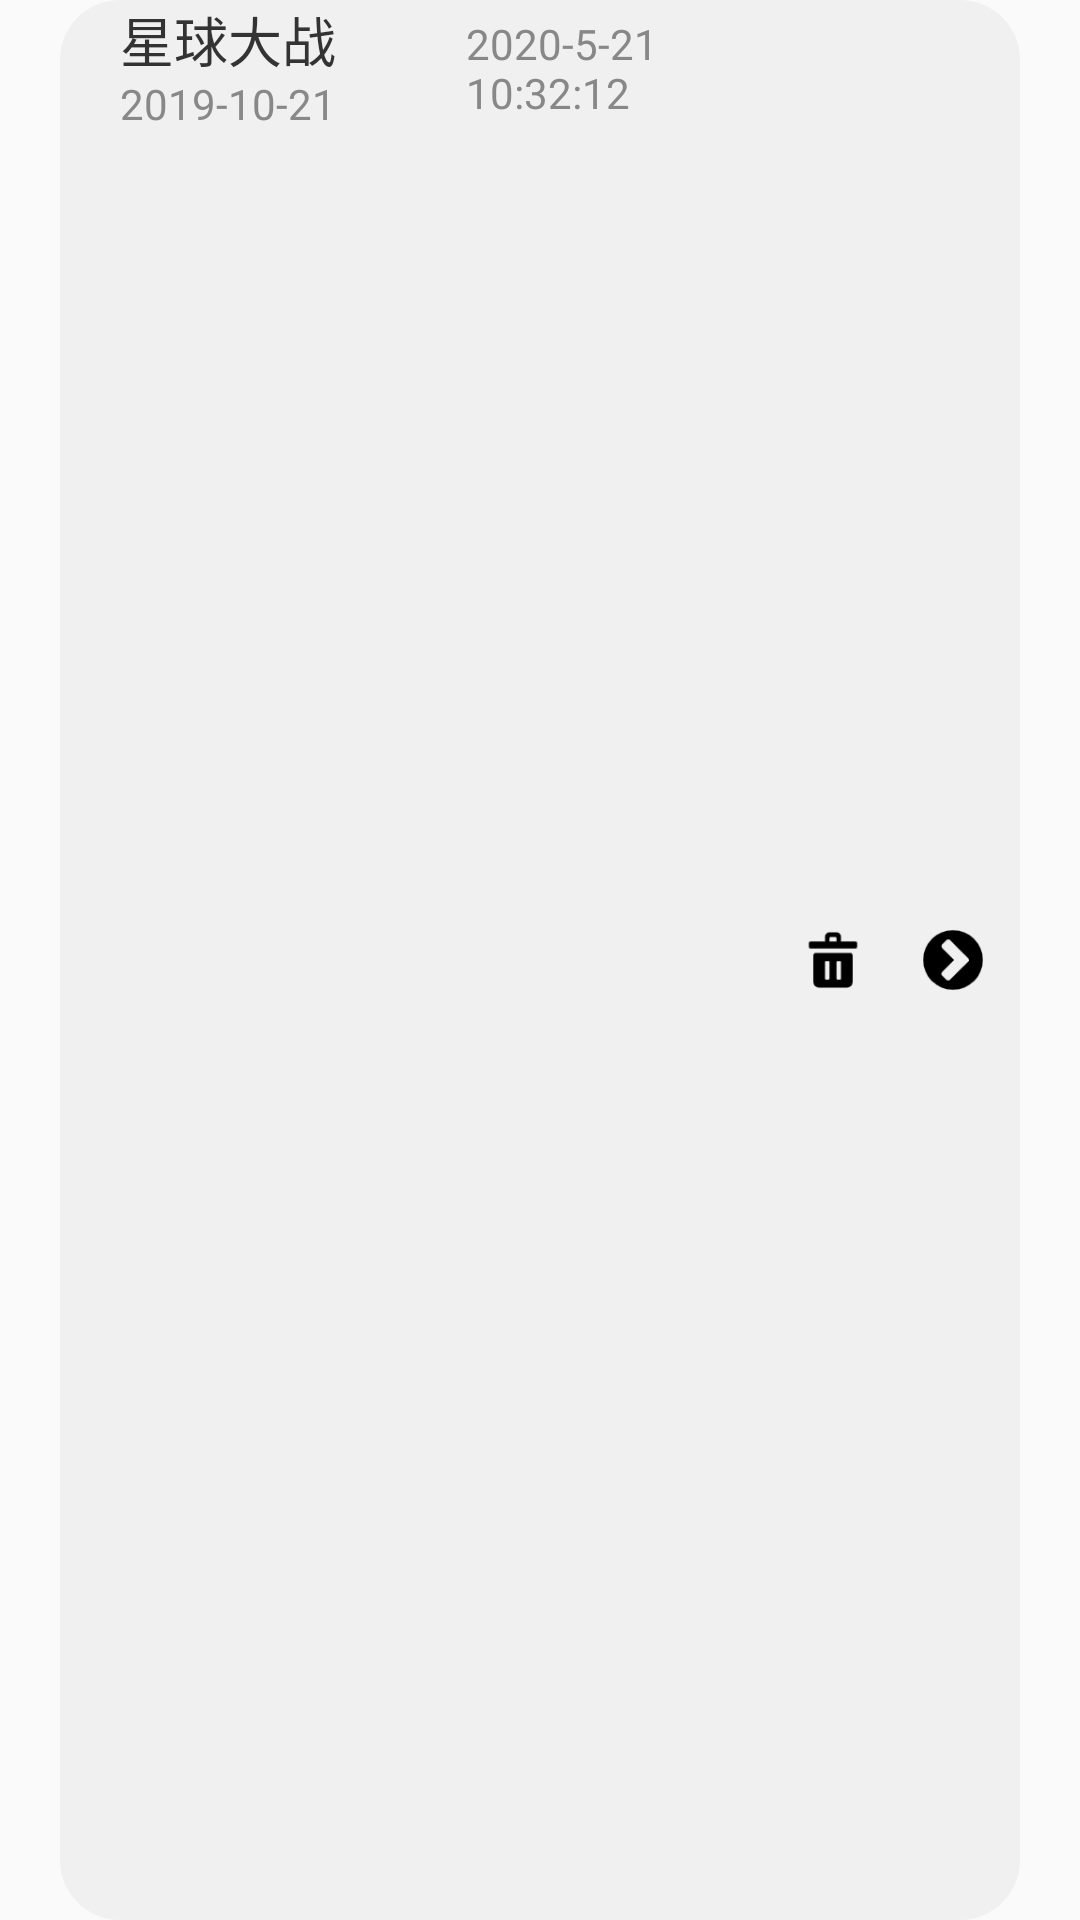

Named icons in this screenshot (1080x1920) and their bounding boxes, {"x1": x1, "y1": y1, "x2": x2, "y2": y2}:
delete: {"x1": 808, "y1": 932, "x2": 858, "y2": 988}
detial: {"x1": 923, "y1": 930, "x2": 983, "y2": 990}
